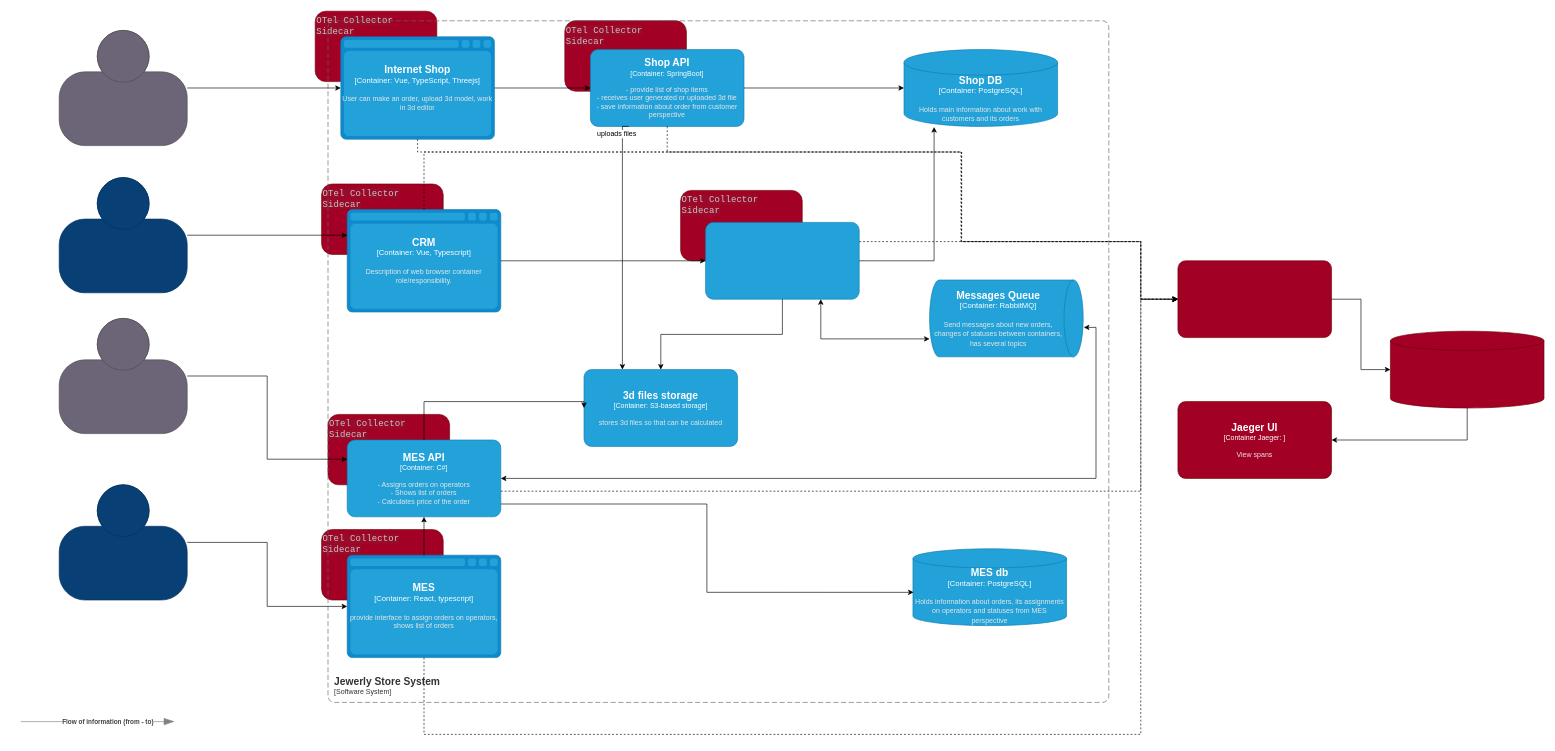
Image size: 1555x751. Some labels were removed from this diagram. Here are the shapes that lost their labels. From the top down, the centre of each, then its label:
point 123,88: Customer [Person] Description of external person.
point 123,235: Seller [Person] Operates with order, confirms manufacturing for the user
point 782,260: CRM API [Container: SpringBoot] Description of container role/responsibility.
point 1254,299: Jaeger backend [Container Jaeger: ] Receive spans
point 123,376: API user [Person] Description of external person.
point 1467,369: Jaeger db [Container: Elasticsearch]
point 123,542: Operator [Person] Takes order in work, manufactures jewerly
